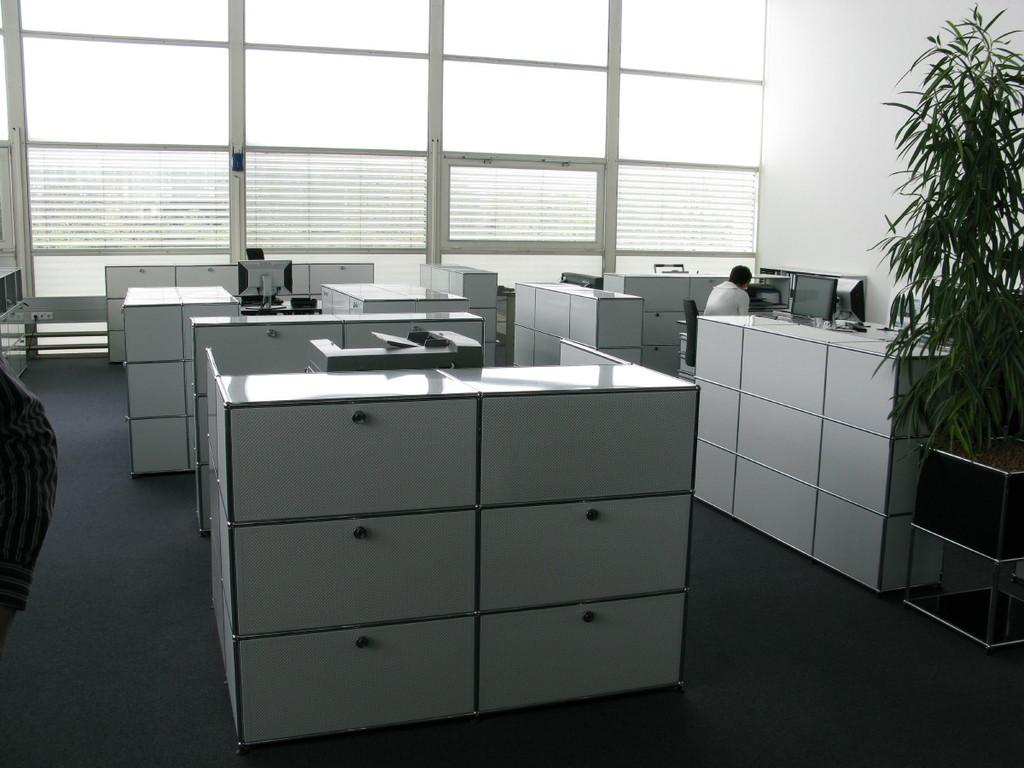Computer-monitor: (236, 258, 292, 306)
